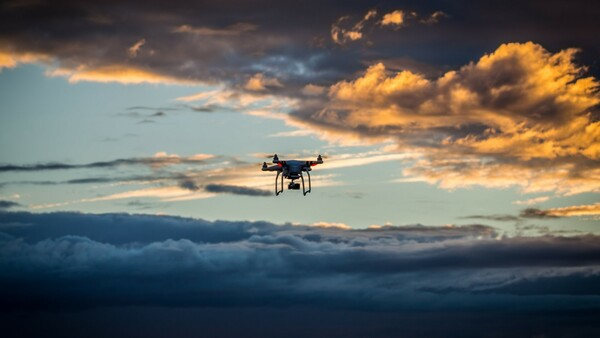drone: (258, 151, 330, 198)
